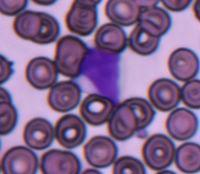M: (79, 48, 121, 105)
